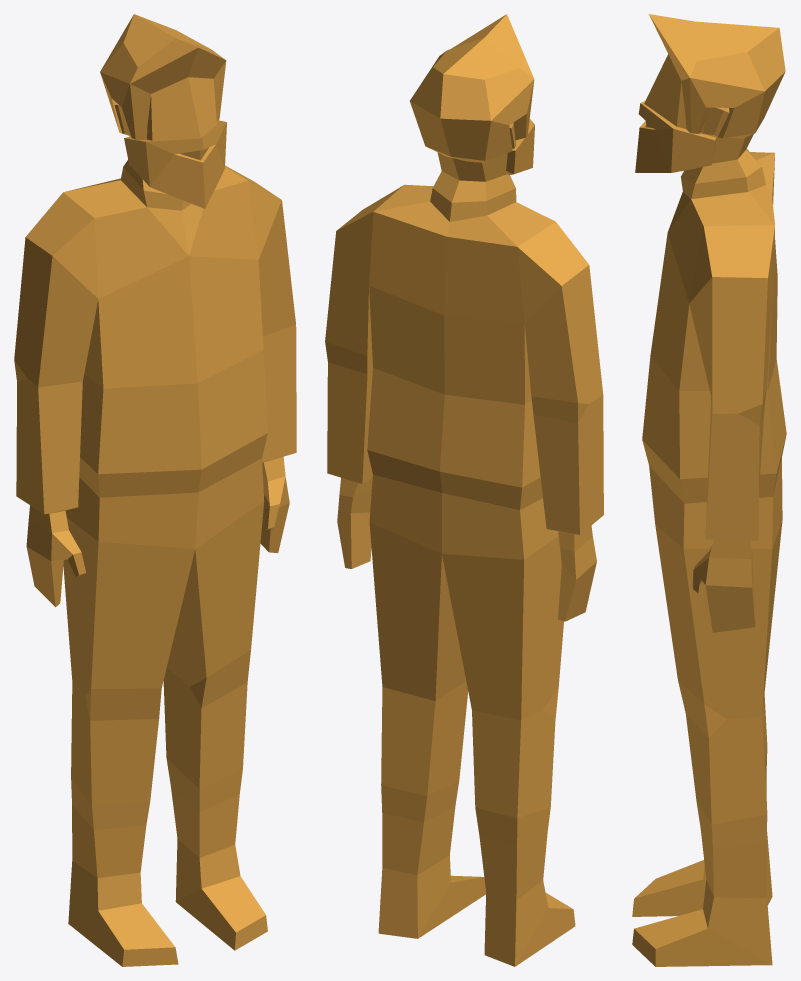
The model's file is man-sweater.fbx.
The picture shows the model from 3 angles, left to right: view 1: azimuth 30°, elevation 25°; view 2: azimuth 150°, elevation 25°; view 3: azimuth 270°, elevation 25°; orthographic projection. The views are drawn at different scales.
Visible parts, largest first — view 1: man-sweater; view 2: man-sweater; view 3: man-sweater.
Part boxes in pixels (left/top/right/bottom): man-sweater: left=14, top=14, right=296, bottom=966; man-sweater: left=325, top=14, right=603, bottom=966; man-sweater: left=632, top=14, right=786, bottom=966.
Bounding box in the file's own units: 0.5509 × 1.84 × 0.2817.
